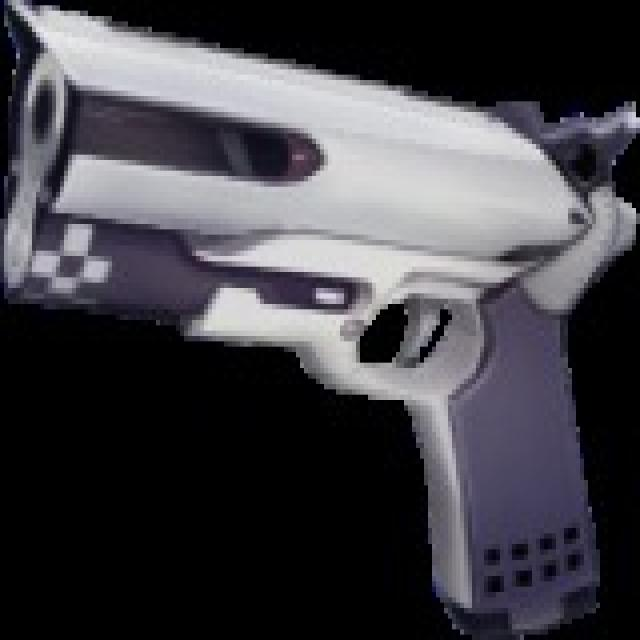Gun: (15, 14, 622, 604)
